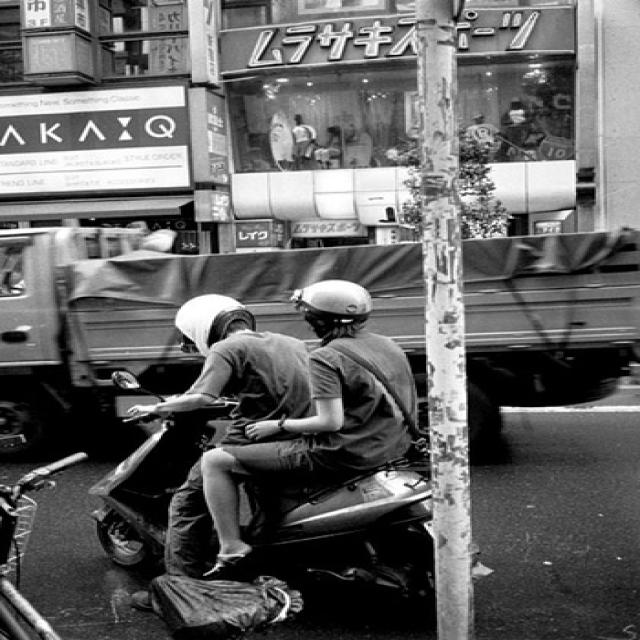motor: (85, 430, 435, 621)
